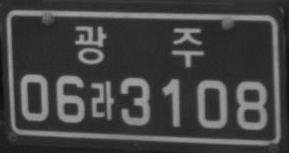0: (195, 79, 229, 129), (19, 72, 50, 122)
1: (160, 78, 189, 127)
3: (120, 77, 151, 125)
6: (56, 72, 85, 123)
8: (235, 80, 268, 130)
광주_D: (74, 25, 204, 66)
라: (90, 80, 114, 120)
